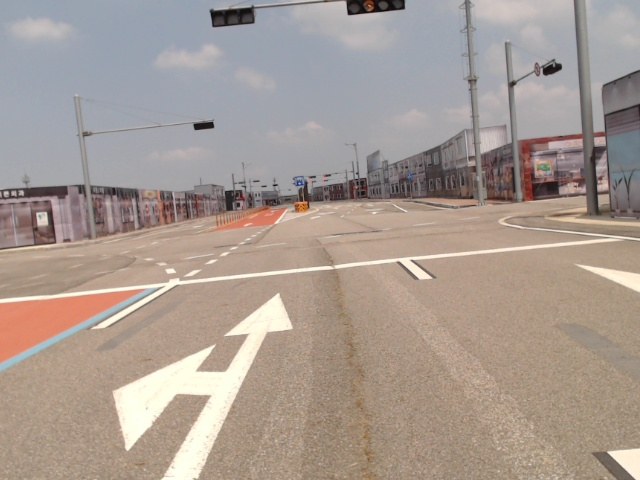orange_4: (346, 0, 407, 15)
